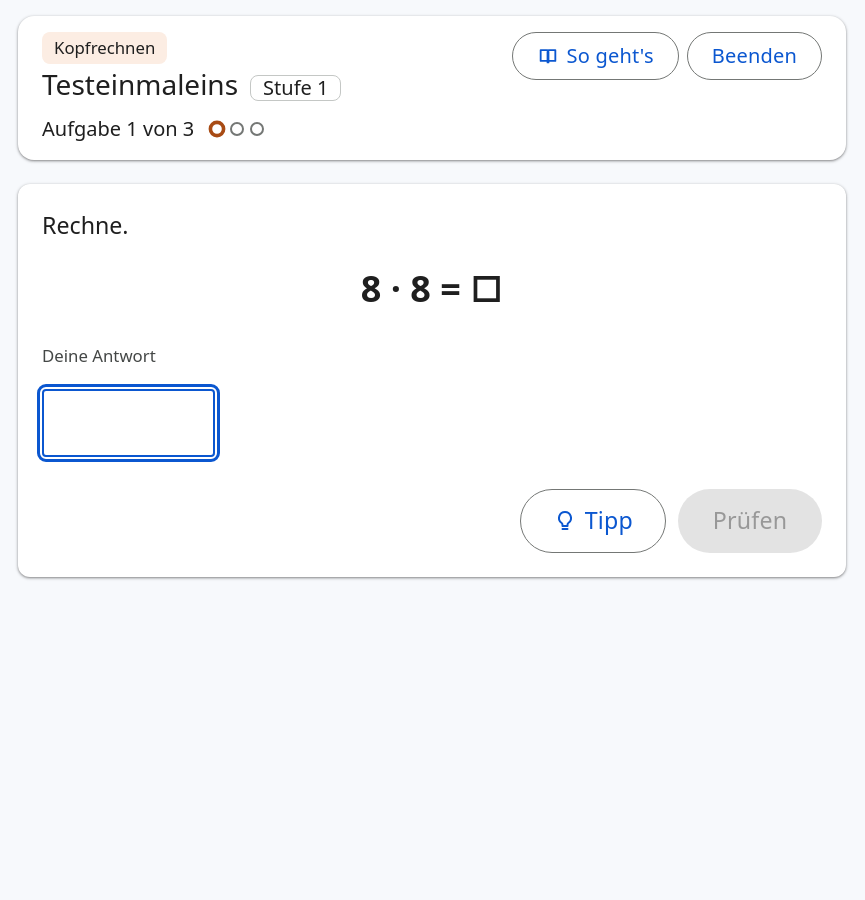
Test case: PracticePage: item flow › 1st wrong → bug hint, retry; 2nd try correct → effort praise, not first-try
Expected: the button "Prüfen" is shown, [678,489,822,553]
Type "72" into the field labelled "Deine Antwort" at {"x": 129, "y": 423}, box [42,389,215,457]
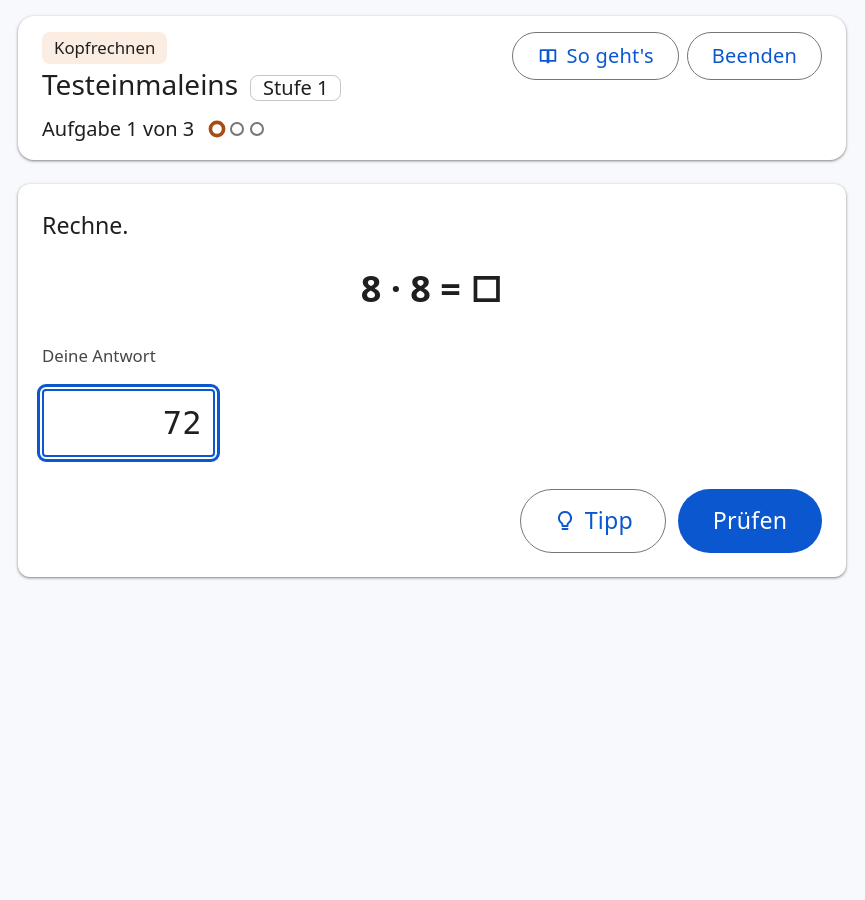
Click the button "Prüfen" at {"x": 750, "y": 521}, box [678,489,822,553]
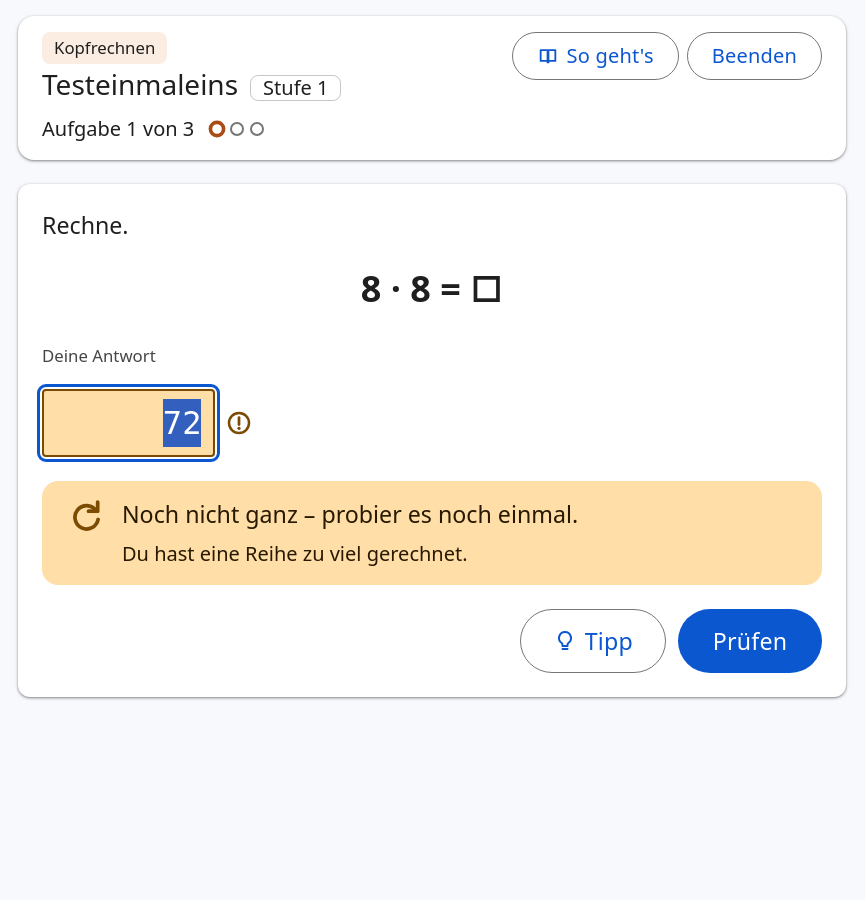
Now the text "Noch nicht ganz – probier es noch einmal." is shown, box [122,498,578,530]
Now the text "Du hast eine Reihe zu viel gerechnet." is shown, box [122,540,468,567]
Replace the text in the field labelled "Deine Antwort" with "64" at {"x": 129, "y": 423}, box [42,389,215,457]
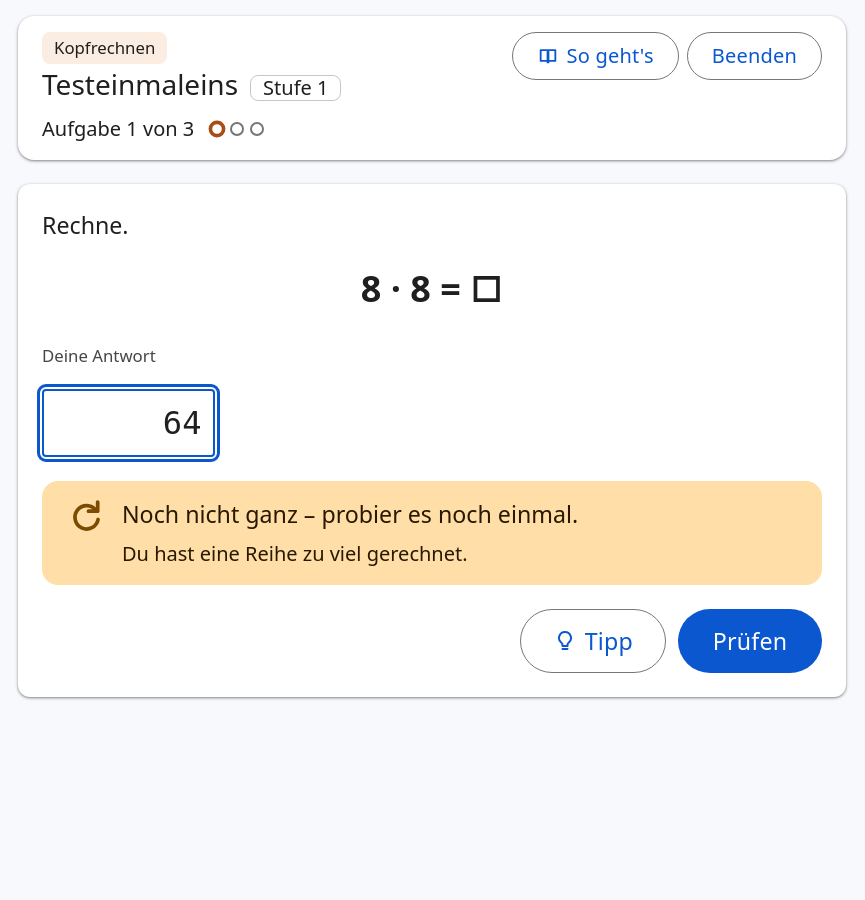
Click the button "Prüfen" at {"x": 750, "y": 641}, box [678,609,822,673]
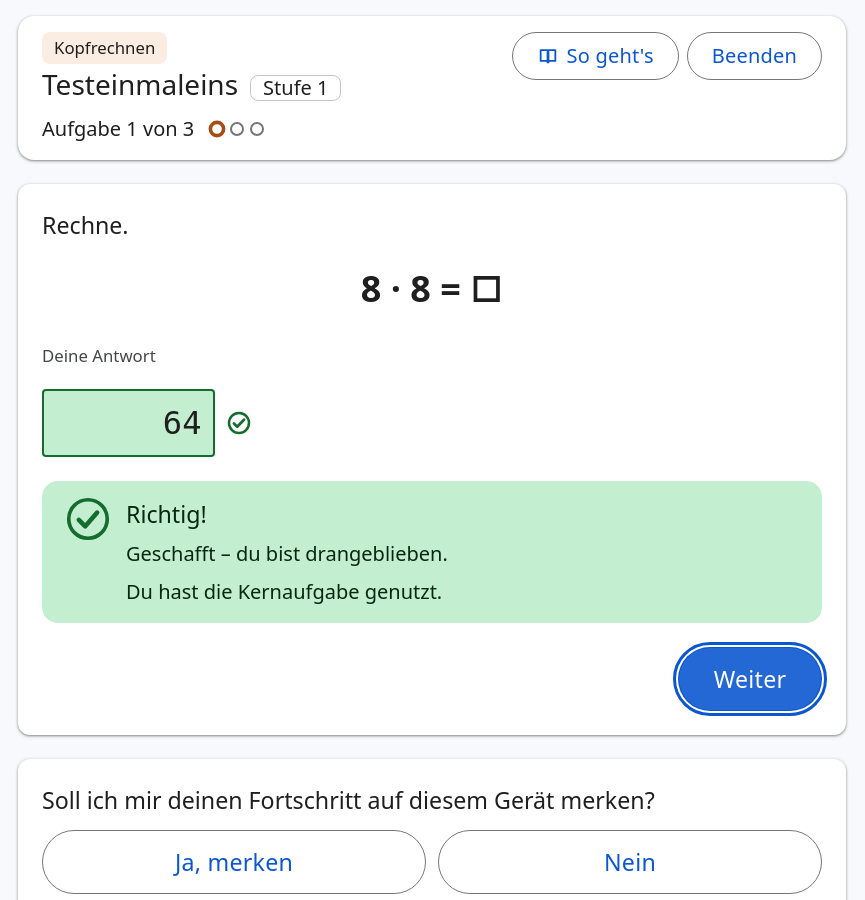
Now the text "Richtig!" is shown, box [126,498,207,530]
Now the text "Geschafft – du bist drangeblieben." is shown, box [126,540,448,567]
